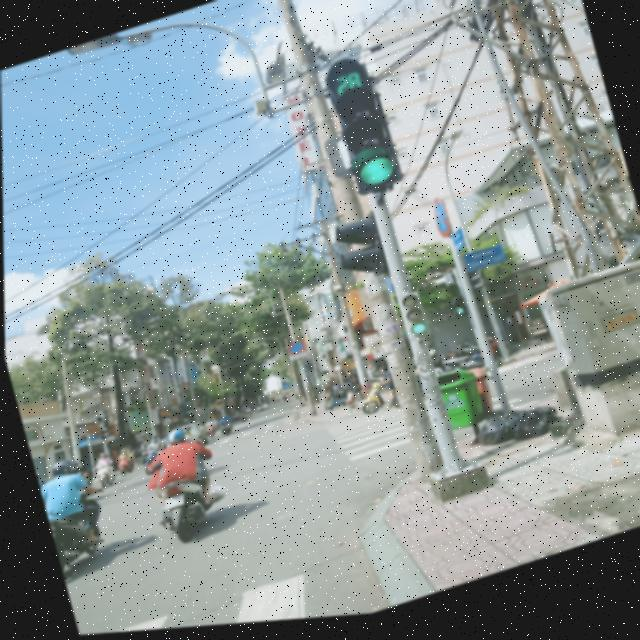Green: (323, 90, 409, 210), (388, 284, 433, 345)
